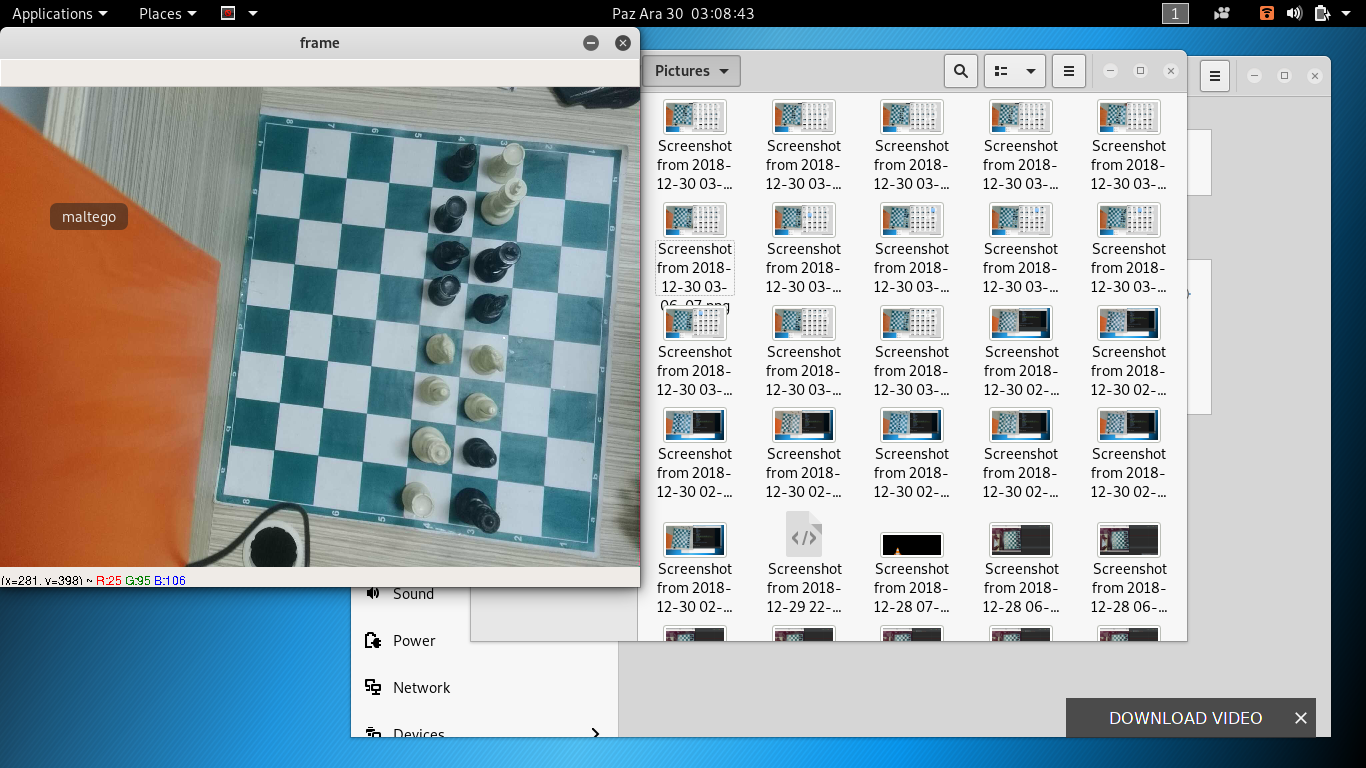BeyazAt: (469, 345, 507, 377), (425, 331, 456, 365)
BeyazFil: (411, 424, 454, 468), (463, 391, 500, 422), (422, 376, 451, 405)
BeyazKale: (485, 141, 525, 181), (402, 482, 437, 519)
BeyazSah: (480, 177, 527, 226)
SiyahAt: (430, 238, 467, 271), (473, 292, 508, 325)
SiyahFil: (462, 435, 500, 470), (444, 144, 476, 181)
SiyahKale: (433, 194, 467, 232), (428, 273, 461, 304)
SiyahSah: (474, 241, 522, 283)
SiyahVezir: (451, 485, 503, 532)
